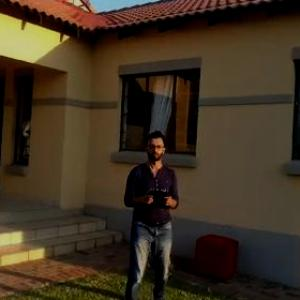follow: (118, 125, 183, 299)
